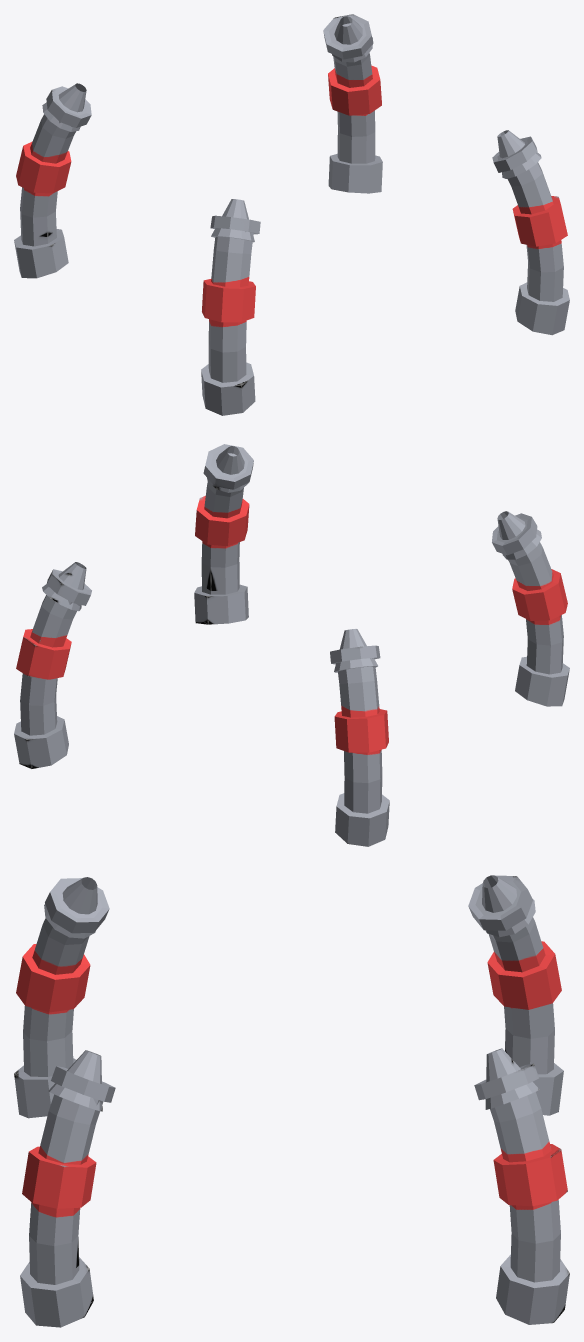
File: boss_base_ue2.fbx
3 views of the same model, one above another, from view 1: azimuth 30°, elevation 25°; view 2: azimuth 150°, elevation 25°; view 3: azimuth 270°, elevation 25° (orthographic). The views are drawn at different scales.
Parts seen in each view (by area): view 1: polySurface3274; view 2: polySurface3274; view 3: polySurface3274.
Part boxes in pixels (<box>): polySurface3274: <box>14,14,569,415</box>; polySurface3274: <box>14,444,569,846</box>; polySurface3274: <box>14,875,569,1327</box>.
Size of the model in its own units: 2.66 by 1.33 by 2.66.
